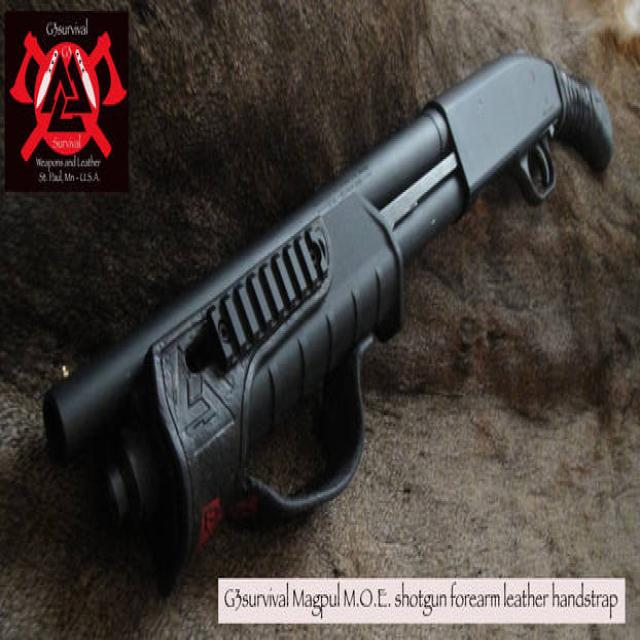ShotGun: (42, 53, 613, 596)
